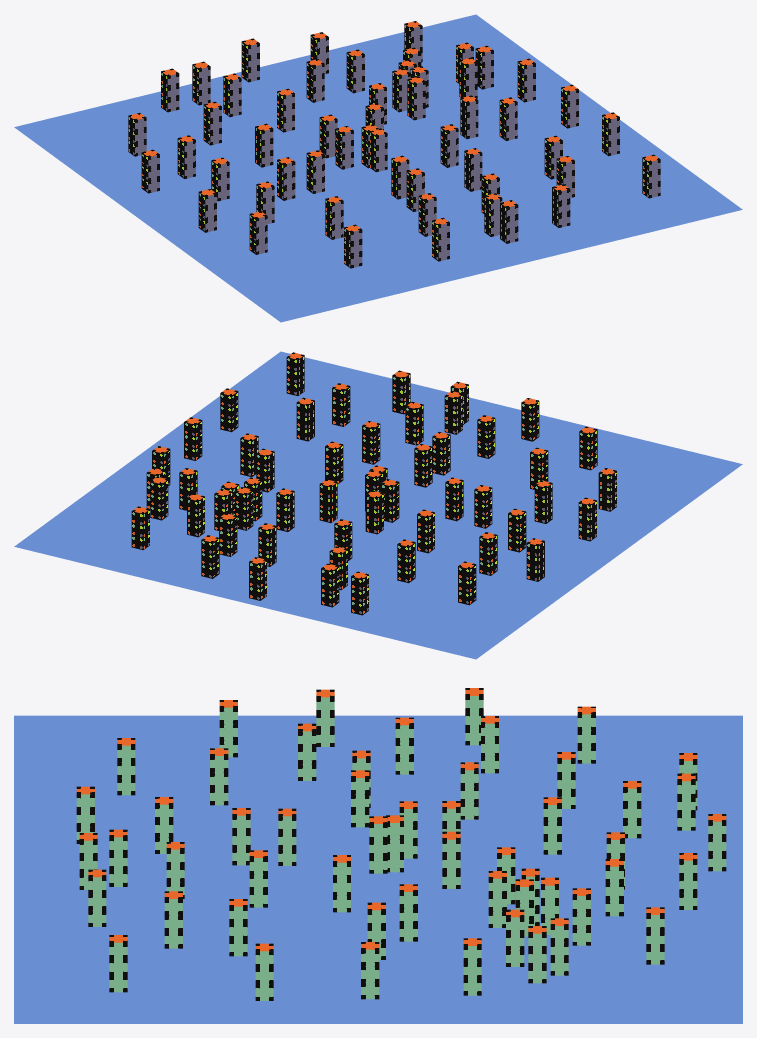
The model's file is orthographic.gltf.
3 views of the same model, one above another, from view 1: azimuth 30°, elevation 25°; view 2: azimuth 150°, elevation 25°; view 3: azimuth 270°, elevation 25° (orthographic). The views are drawn at different scales.
Parts seen in each view (by area): view 1: Plane, Cube.021, Cube.039, Cube.006, Cube.007, Cube.015, Cube.020, Cube.026, Cube.032, Cube.034, Cube.035, Cube.036 (+35 smaller); view 2: Plane, Cube.002, Cube.006, Cube.001, Cube.003, Cube.005, Cube.016, Cube.018, Cube.019, Cube.022, Cube.023, Cube.033 (+36 smaller); view 3: Plane, Cube, Cube.003, Cube.007, Cube.010, Cube.011, Cube.014, Cube.025, Cube.028, Cube.035, Cube.039, Cube.044 (+39 smaller).
Boxes of the visible parts, box(x1,y1,x2,y2) form: Plane: box(14, 14, 742, 322); Cube.021: box(325, 196, 343, 239); Cube.039: box(198, 189, 216, 232); Cube.006: box(306, 150, 324, 193); Cube.007: box(255, 123, 273, 167); Cube.015: box(223, 73, 241, 117); Cube.020: box(277, 157, 295, 200); Cube.026: box(499, 97, 517, 140); Cube.032: box(346, 49, 364, 93); Cube.034: box(241, 38, 259, 82); Cube.035: box(192, 61, 210, 105); Cube.036: box(161, 68, 179, 112); Plane: box(14, 351, 742, 659); Cube.002: box(276, 488, 294, 531); Cube.006: box(445, 477, 463, 521); Cube.001: box(365, 490, 383, 534); Cube.003: box(319, 479, 337, 522); Cube.005: box(414, 444, 432, 487); Cube.016: box(397, 539, 415, 583); Cube.018: box(508, 508, 526, 552); Cube.019: box(534, 480, 552, 523); Cube.022: box(432, 432, 450, 475); Cube.023: box(477, 415, 495, 458); Cube.033: box(201, 535, 219, 578); Plane: box(14, 715, 742, 1023); Cube: box(369, 816, 387, 873); Cube.003: box(442, 831, 460, 888); Cube.007: box(460, 762, 478, 819); Cube.010: box(249, 850, 267, 907); Cube.011: box(399, 884, 417, 941); Cube.014: box(543, 797, 561, 854); Cube.025: box(229, 899, 247, 956); Cube.028: box(572, 888, 590, 945); Cube.035: box(677, 773, 695, 830); Cube.039: box(316, 689, 334, 746); Cube.044: box(109, 829, 127, 886).
Bounding box in the file's own units: 40 × 3 × 40.
2 materials, 1 textured.
